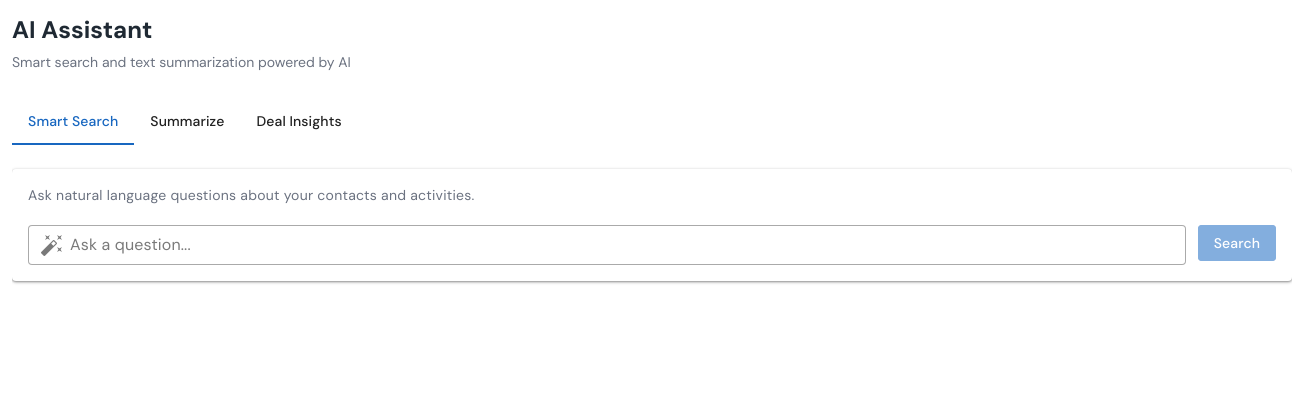
Scenario: AiPanelPage › displays search result tokens from stream
This screenshot has width=1292, height=409.
Type "test" into the field labelled "Ask a question..." at (625,245), box [64, 225, 1186, 265]
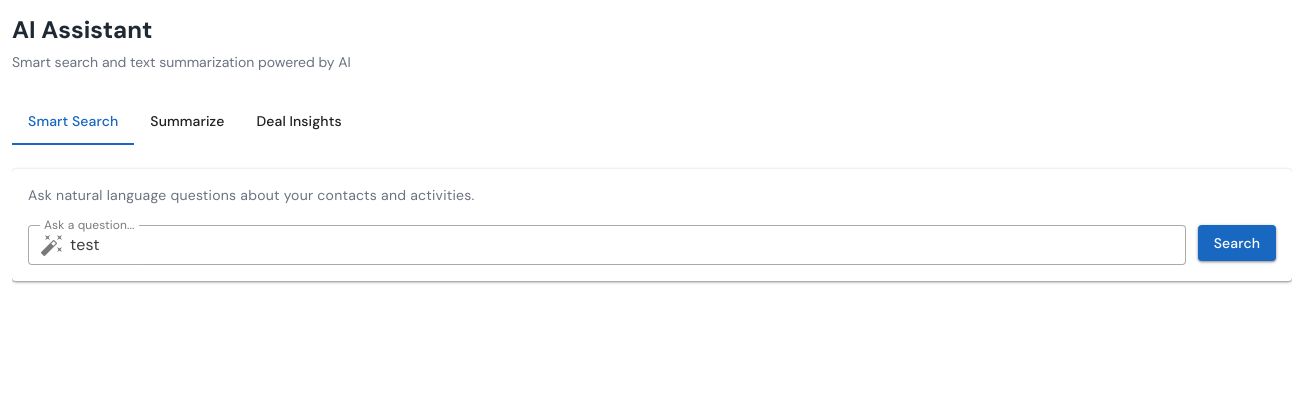
Click the button "Search" at (1237,243), box [1198, 225, 1276, 261]
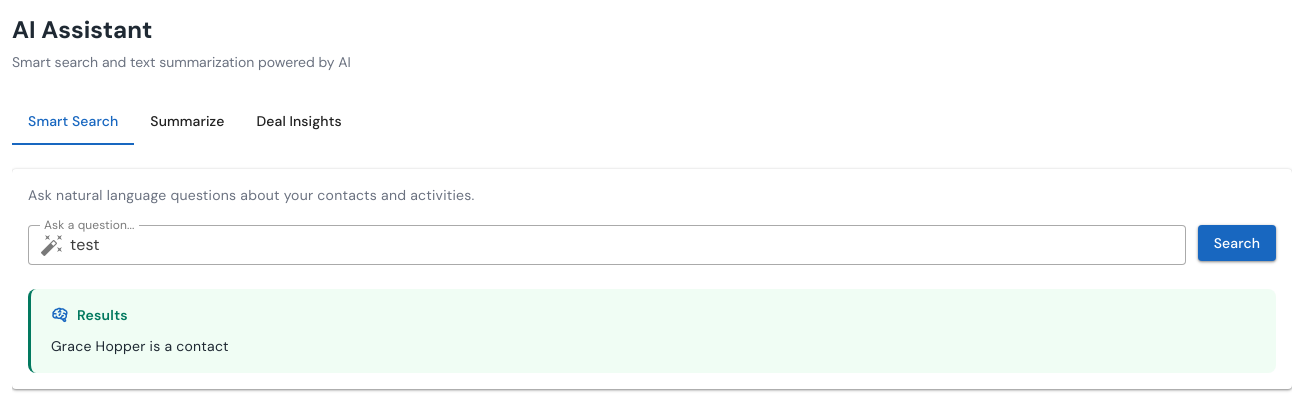
Expected: the text "Grace Hopper is a contact" is shown, [51, 337, 229, 355]
